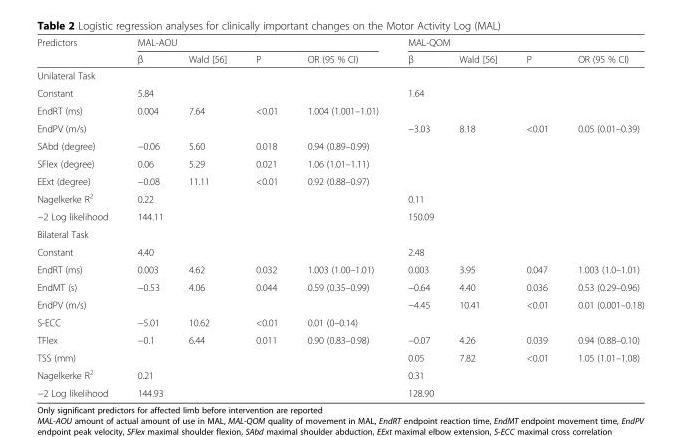table: (36, 36, 643, 398)
table column: (292, 36, 392, 398), (36, 36, 122, 398), (562, 36, 643, 398), (443, 36, 511, 398), (173, 36, 240, 398), (240, 36, 292, 398), (122, 36, 173, 398), (392, 36, 443, 398), (511, 36, 562, 398)
table column header: (36, 36, 643, 66)
table projected row header: (36, 66, 643, 83), (36, 225, 643, 242)
table row: (36, 83, 643, 101), (36, 101, 643, 119), (36, 136, 643, 154), (36, 171, 643, 189), (36, 189, 643, 207), (36, 207, 643, 225), (36, 242, 643, 260), (36, 277, 643, 295), (36, 295, 643, 313), (36, 330, 643, 348), (36, 365, 643, 383), (36, 49, 643, 66), (36, 66, 643, 83), (36, 119, 643, 136), (36, 154, 643, 171), (36, 225, 643, 242), (36, 260, 643, 277), (36, 313, 643, 330), (36, 348, 643, 365), (36, 383, 643, 398), (36, 36, 643, 49)
table spanning cell: (122, 189, 392, 207), (122, 207, 392, 225), (122, 365, 392, 383), (392, 189, 643, 207), (392, 207, 643, 225), (392, 365, 643, 383), (122, 383, 392, 398), (392, 383, 643, 398), (122, 36, 392, 49), (392, 36, 643, 49), (36, 36, 122, 66)
